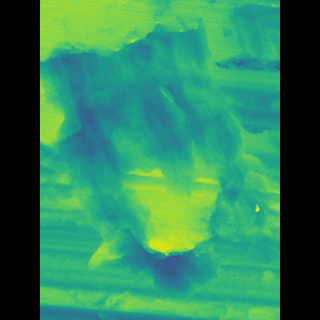Loch: (79, 16, 246, 294)
